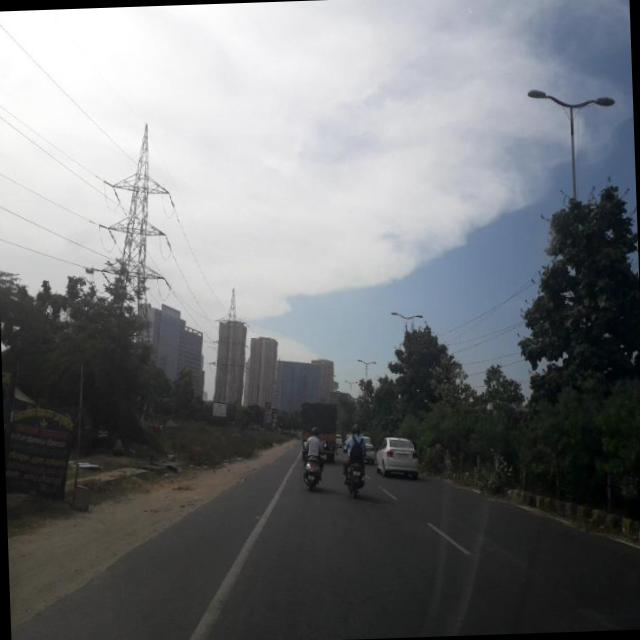crack: (220, 500, 460, 630)
